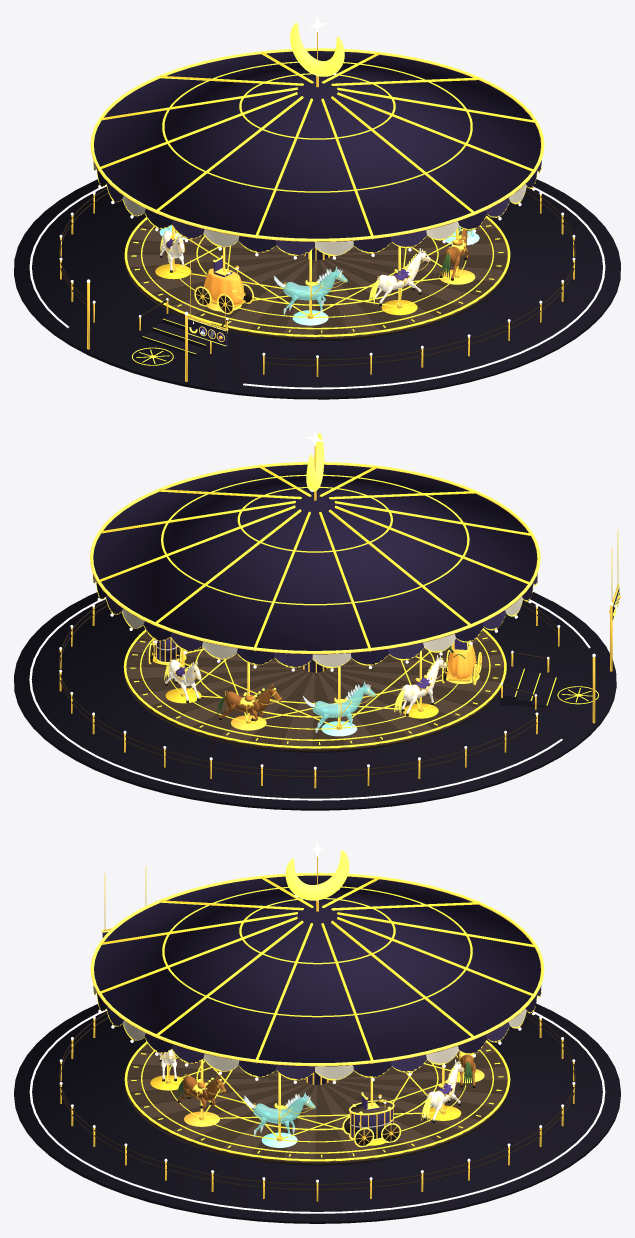
Rendered from carousel.glb.
3 renders of one model, top to bottom at view 1: azimuth 30°, elevation 25°; view 2: azimuth 150°, elevation 25°; view 3: azimuth 270°, elevation 25°, orthographic.
Visible parts, largest first — view 1: CR_P_CR_Roof, CR_S_CR_StoneDark, CR_P_CR_InlayGold, CR_P_CR_Wood, CR_P_CR_WoodLight, CR_P_CR_GoldBright, CR_S_CR_WoodDark, CR_S_CR_WarmBulb, CR_P_CR_ValanceDeep, CR_P_CR_ValanceViolet, CR_P_CR_PaintIvory, CR_S_CR_GoldDeep (+7 smaller); view 2: CR_P_CR_Roof, CR_S_CR_StoneDark, CR_P_CR_InlayGold, CR_P_CR_Wood, CR_P_CR_WoodLight, CR_P_CR_GoldBright, CR_S_CR_WoodDark, CR_S_CR_WarmBulb, CR_S_CR_GoldDeep, CR_P_CR_ValanceDeep, CR_S_CR_Stone, CR_P_CR_ValanceViolet (+8 smaller); view 3: CR_P_CR_Roof, CR_S_CR_StoneDark, CR_P_CR_InlayGold, CR_P_CR_Wood, CR_P_CR_WoodLight, CR_P_CR_GoldBright, CR_S_CR_WoodDark, CR_S_CR_WarmBulb, CR_P_CR_ValanceDeep, CR_P_CR_ValanceViolet, CR_P_CR_PaintIvory, CR_P_CR_GlowGold (+8 smaller).
Boxes of the visible parts, x1,y1,x2,y2 form: CR_P_CR_Roof: [94, 51, 540, 241]; CR_S_CR_StoneDark: [14, 179, 620, 399]; CR_P_CR_InlayGold: [93, 52, 541, 337]; CR_P_CR_Wood: [124, 219, 509, 340]; CR_P_CR_WoodLight: [127, 218, 507, 334]; CR_P_CR_GoldBright: [90, 48, 544, 316]; CR_S_CR_WoodDark: [59, 187, 575, 366]; CR_S_CR_WarmBulb: [29, 185, 605, 389]; CR_P_CR_ValanceDeep: [96, 168, 537, 252]; CR_P_CR_ValanceViolet: [106, 160, 541, 255]; CR_P_CR_PaintIvory: [93, 161, 526, 255]; CR_S_CR_GoldDeep: [60, 194, 574, 381]; CR_P_CR_Roof: [93, 464, 537, 654]; CR_S_CR_StoneDark: [14, 592, 616, 810]; CR_P_CR_InlayGold: [92, 465, 537, 748]; CR_P_CR_Wood: [124, 631, 506, 751]; CR_P_CR_WoodLight: [126, 630, 503, 746]; CR_P_CR_GoldBright: [90, 462, 540, 727]; CR_S_CR_WoodDark: [58, 599, 557, 777]; CR_S_CR_WarmBulb: [29, 590, 615, 800]; CR_S_CR_GoldDeep: [59, 529, 618, 788]; CR_P_CR_ValanceDeep: [96, 581, 533, 665]; CR_S_CR_Stone: [500, 668, 556, 707]; CR_P_CR_ValanceViolet: [106, 574, 537, 667]; CR_P_CR_Roof: [94, 875, 540, 1066]; CR_S_CR_StoneDark: [14, 1003, 620, 1223]; CR_P_CR_InlayGold: [93, 876, 541, 1161]; CR_P_CR_Wood: [124, 1043, 510, 1164]; CR_P_CR_WoodLight: [127, 1042, 507, 1159]; CR_P_CR_GoldBright: [90, 872, 544, 1138]; CR_S_CR_WoodDark: [59, 1011, 575, 1190]; CR_S_CR_WarmBulb: [29, 1009, 605, 1213]; CR_P_CR_ValanceDeep: [97, 992, 537, 1077]; CR_P_CR_ValanceViolet: [106, 985, 541, 1080]; CR_P_CR_PaintIvory: [93, 986, 526, 1080]; CR_P_CR_GlowGold: [285, 850, 349, 900].
Size of the model in its own units: 25.2 by 11.76 by 25.2.
